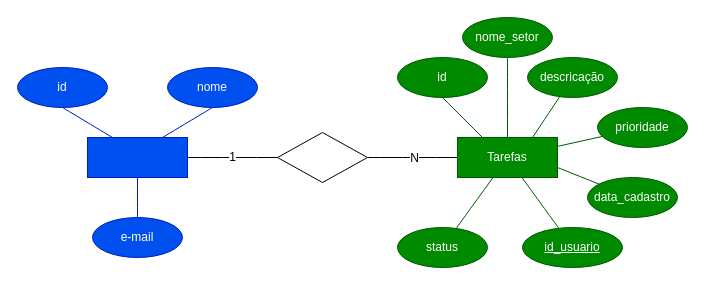
Some shapes in this 705 by 285 pixel diagram are drawn without their labels. The centre of each missing label's shape, as x and y in pixels:
recebe: point 322,157
Usuario: point 137,157
